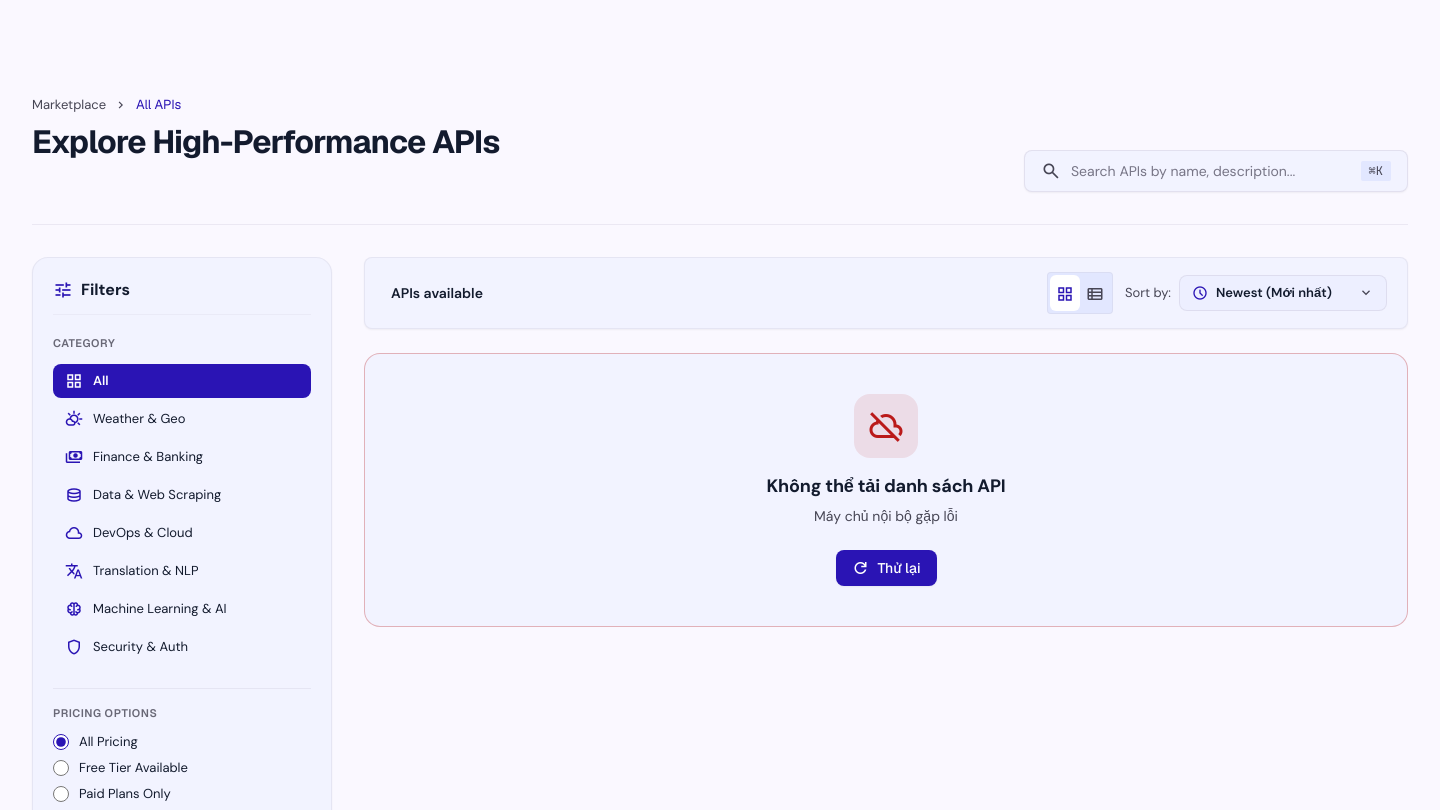
Test case: MarketplacePage › displays error state when backend API fails and allows retry
Check: the heading "Không thể tải danh sách API" is shown, box [766,474,1006,498]
Check: the text "Máy chủ nội bộ gặp lỗi" is shown, box [814,507,958,525]
Click the button "Thử lại".
click(886, 568)  # box [836,550,936,586]
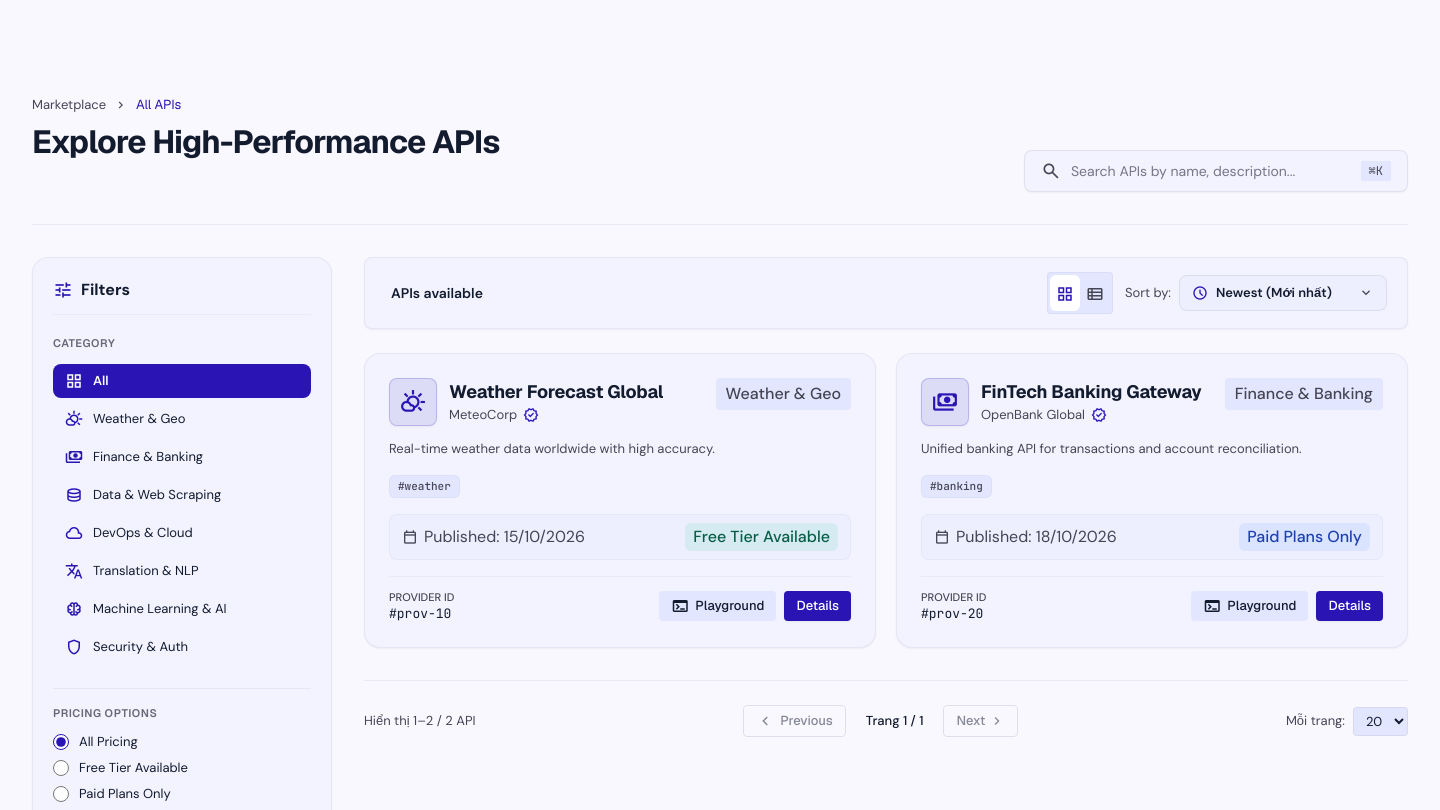
Check: the link "Weather Forecast Global" is shown, box [449,380,663,404]
